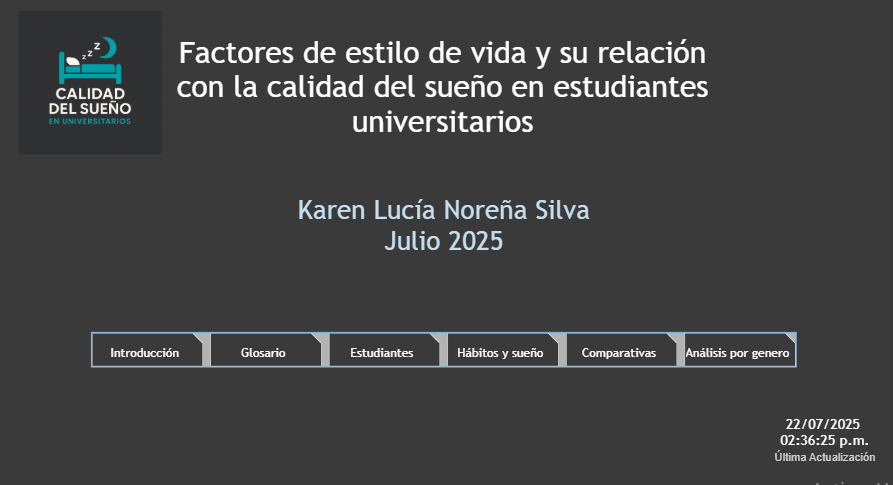

What the dashboard file says about the page in this screenshot:
{"tool":"powerbi","page":{"name":"Introducción","canvas":[1280,720],"ordinal":1},"visuals":[{"type":"textbox","box":[171.9,106.3,253.2,64.1],"z":0},{"type":"textbox","box":[536.9,540.8,649,137.5],"z":0,"group":"g2"},{"type":"textbox","box":[189.1,359.5,218.8,64.1],"z":1000},{"type":"shape","box":[483,514.2,747.1,189.1],"z":1000,"group":"g2"},{"type":"textbox","box":[198.5,576.7,201.6,67.2],"z":2000},{"type":"group","id":"g1","title":"Grupo 1","box":[483,9.4,747.1,254.8],"z":3000},{"type":"shape","box":[483,9.4,747.1,254.8],"z":3000,"group":"g1"},{"type":"shape","box":[483,297,747.1,189.1],"z":3000,"group":"g3"},{"type":"textbox","box":[508.9,29.8,689.1,204.1],"z":4000,"group":"g1"},{"type":"group","id":"g2","title":"Grupo 2","box":[483,514.2,747.1,189.1],"z":4000},{"type":"textbox","box":[592.5,306.4,575.5,171.9],"z":4002,"group":"g3"},{"type":"group","id":"g3","title":"Grupo 3","box":[483,297,747.1,189.1],"z":5000},{"type":"actionButton","box":[0,654.9,56.3,48.5],"z":6000},{"type":"actionButton","box":[67.2,654.9,50,48.5],"z":7000},{"type":"image","box":[11.3,19.8,160.2,133.2],"z":7001}]}

Visuals, with their boxes on the page's 1280x720 design canvas (x1, y1, x2, y2). These are canvas units, not pixel positions in the 893x485 screenshot, which may show the page scaled, cropped or inside an application window:
textbox: region(172, 106, 425, 170)
textbox: region(537, 541, 1186, 678)
textbox: region(189, 360, 408, 424)
shape: region(483, 514, 1230, 703)
textbox: region(198, 577, 400, 644)
"Grupo 1" group: region(483, 9, 1230, 264)
shape: region(483, 9, 1230, 264)
shape: region(483, 297, 1230, 486)
textbox: region(509, 30, 1198, 234)
"Grupo 2" group: region(483, 514, 1230, 703)
textbox: region(592, 306, 1168, 478)
"Grupo 3" group: region(483, 297, 1230, 486)
actionButton: region(0, 655, 56, 703)
actionButton: region(67, 655, 117, 703)
image: region(11, 20, 172, 153)
